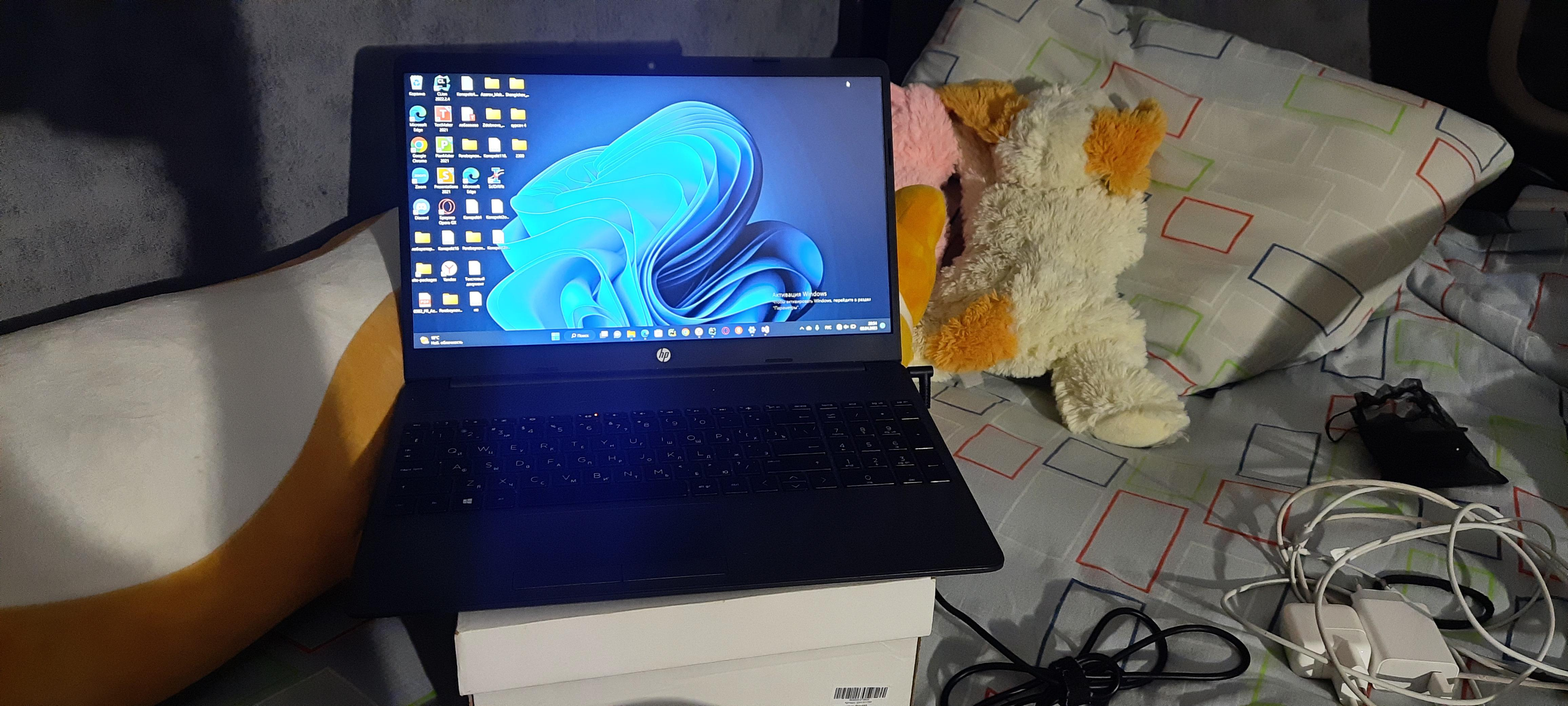monitor: (366, 41, 919, 378)
